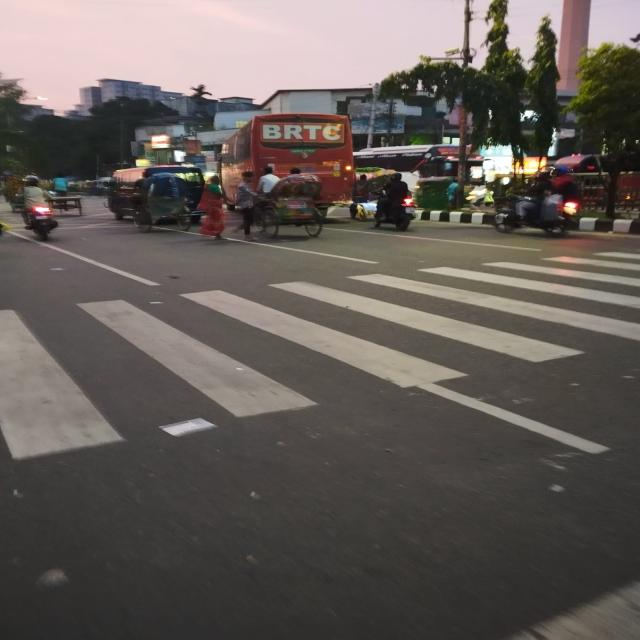person: (198, 176, 226, 240), (236, 171, 257, 240)
